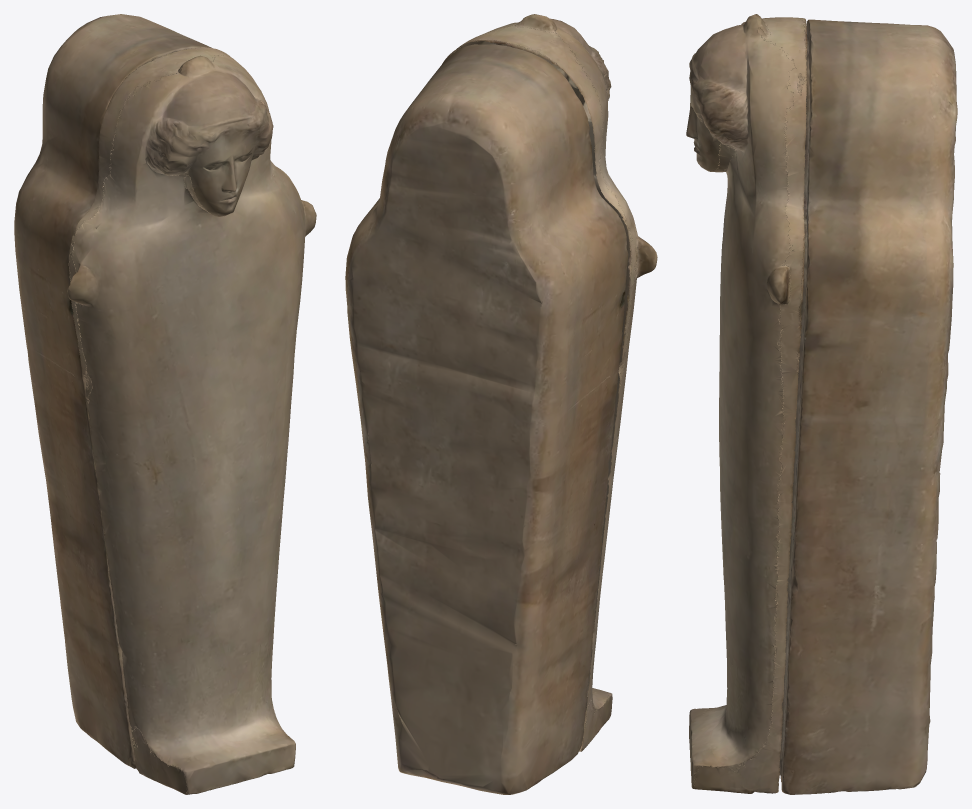
The model's file is preview.glb.
3 views of the same model, side by side, from view 1: azimuth 30°, elevation 25°; view 2: azimuth 150°, elevation 25°; view 3: azimuth 270°, elevation 25° (orthographic). The views are drawn at different scales.
Visible parts, largest first — view 1: Polygonal_Model_2_ADVIMG_74_51_2452_MarbleAnthropoidSarcopha; view 2: Polygonal_Model_2_ADVIMG_74_51_2452_MarbleAnthropoidSarcopha; view 3: Polygonal_Model_2_ADVIMG_74_51_2452_MarbleAnthropoidSarcopha.
Part boxes in pixels (left/top/right/bottom): Polygonal_Model_2_ADVIMG_74_51_2452_MarbleAnthropoidSarcopha: left=14, top=14, right=316, bottom=794; Polygonal_Model_2_ADVIMG_74_51_2452_MarbleAnthropoidSarcopha: left=345, top=14, right=657, bottom=794; Polygonal_Model_2_ADVIMG_74_51_2452_MarbleAnthropoidSarcopha: left=686, top=14, right=957, bottom=794.
Size of the model in its own units: 0.858 by 2.34 by 0.7616.
2 materials, 2 textured.
